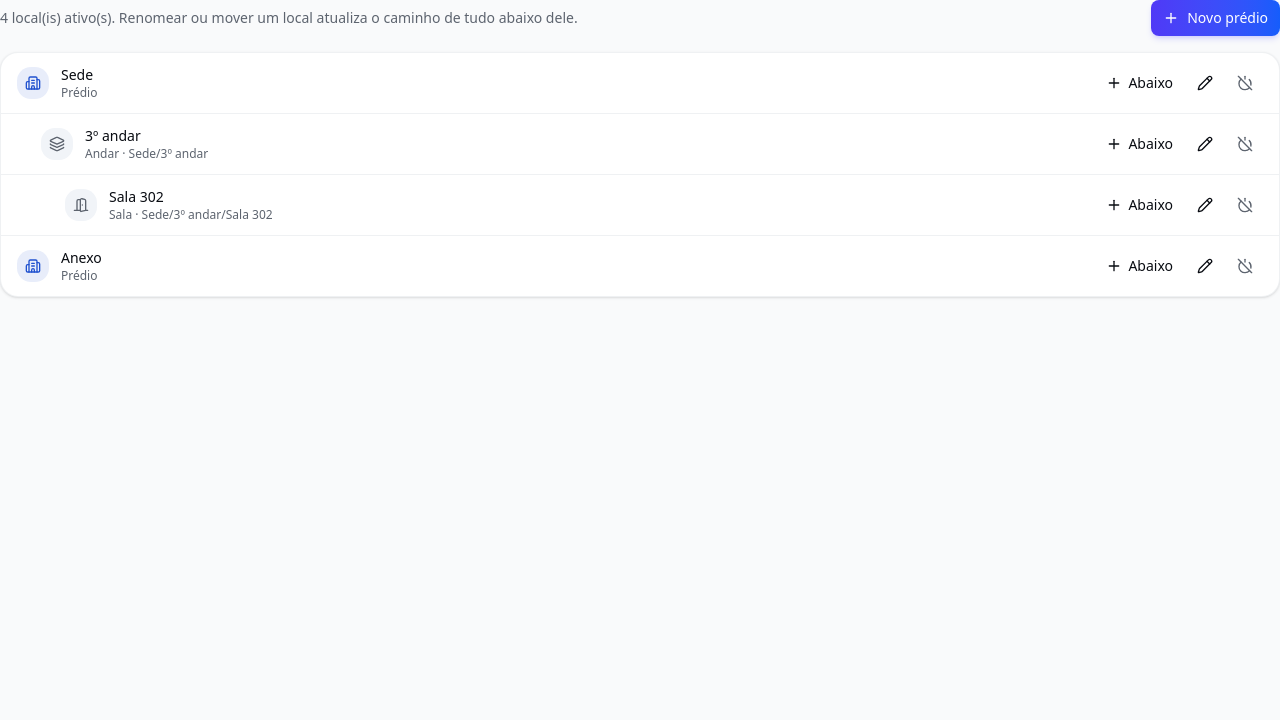
Scenario: GerirLocalizacoes › ao mover um andar, ele e as salas dele não aparecem como destino (AC-2)
This screenshot has width=1280, height=720.
Click the button named "Editar 3º andar": coordinates (1205, 144) [1187,128,1223,160]
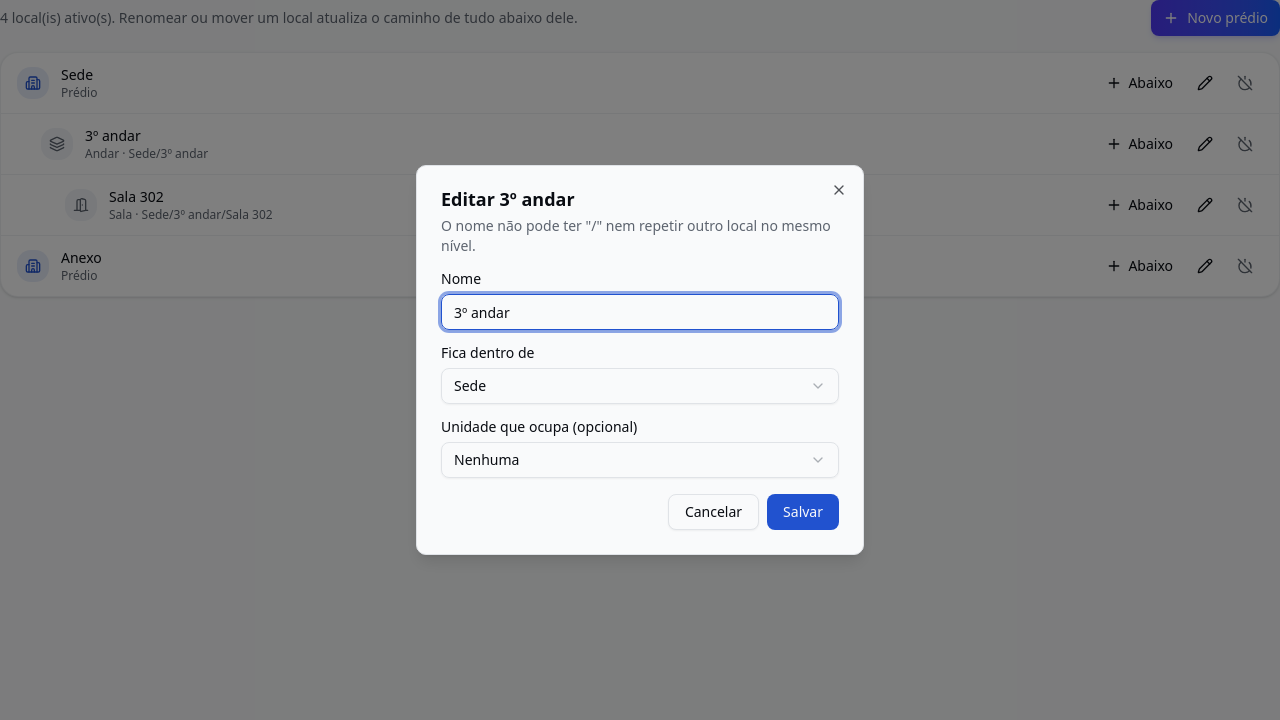
Click the dropdown named "Fica dentro de": coordinates (470, 386) [441,368,839,404]
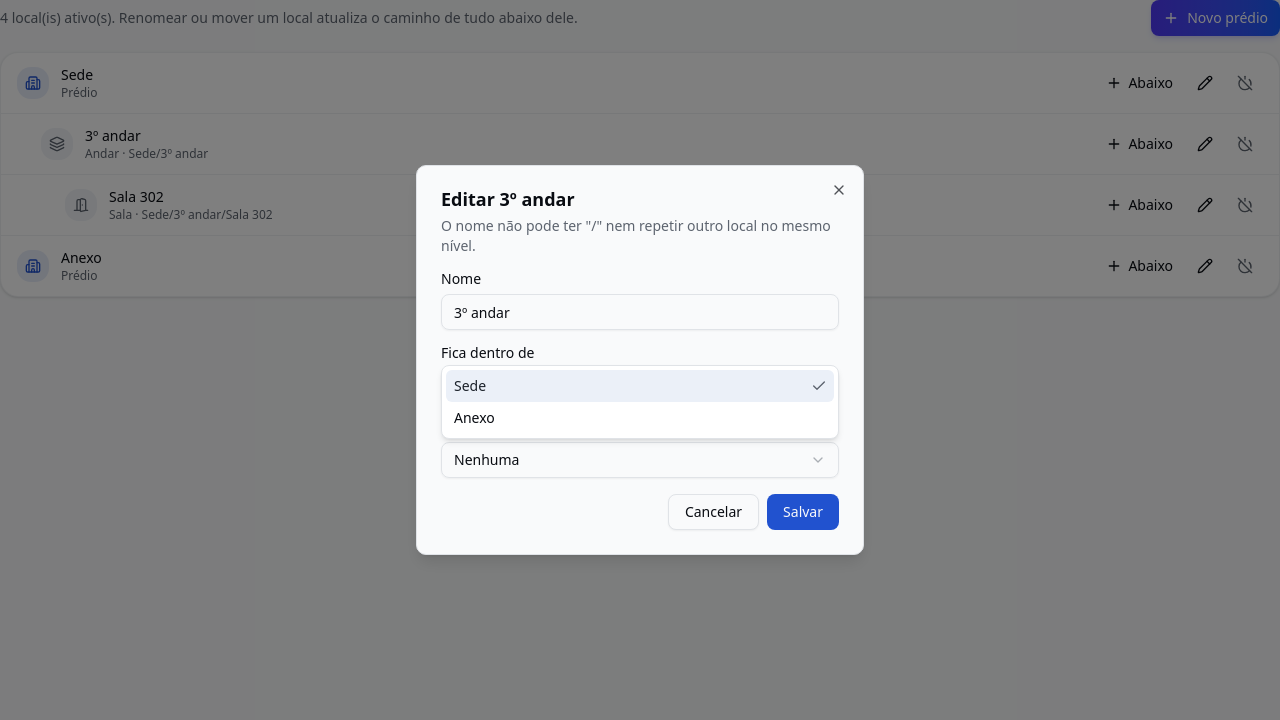
Result: the options read "Sede", "Anexo", in this order at [446,370,834,402]; [454,408,495,427]
